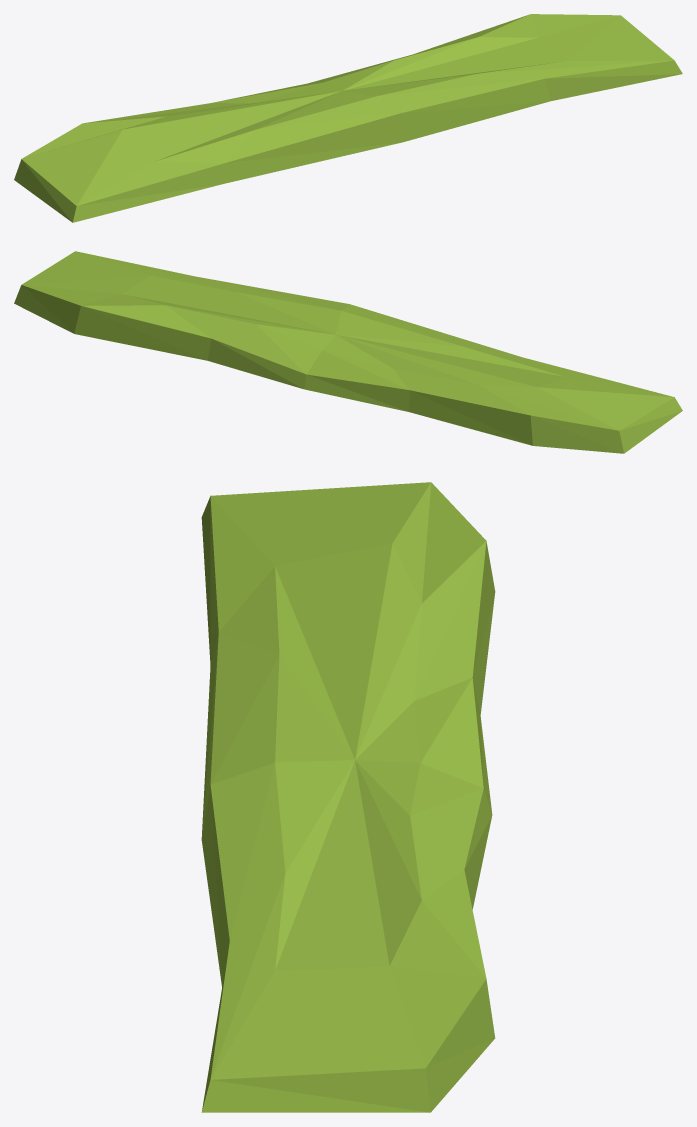
Rendered from green_backdrop.glb.
The picture shows the model from 3 angles, top to bottom: view 1: azimuth 30°, elevation 25°; view 2: azimuth 150°, elevation 25°; view 3: azimuth 270°, elevation 25°; orthographic projection. The views are drawn at different scales.
Parts seen in each view (by area): view 1: frutiger_aero_green_backdrop; view 2: frutiger_aero_green_backdrop; view 3: frutiger_aero_green_backdrop.
Part boxes in pixels (left/top/right/bottom): frutiger_aero_green_backdrop: left=14, top=14, right=682, bottom=222; frutiger_aero_green_backdrop: left=14, top=251, right=682, bottom=453; frutiger_aero_green_backdrop: left=201, top=482, right=495, bottom=1112.
Size of the model in its own units: 24 by 1.3 by 5.
Materials: 1 (1 with a texture image).
